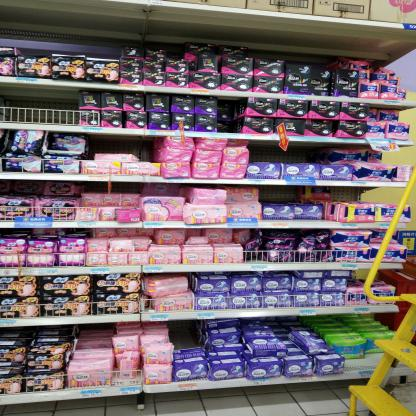Void: (16, 35, 120, 56), (1, 89, 74, 111), (256, 45, 328, 63), (256, 144, 324, 161), (94, 134, 144, 152), (262, 188, 302, 202), (174, 326, 199, 344), (336, 190, 360, 201), (163, 38, 179, 53)
